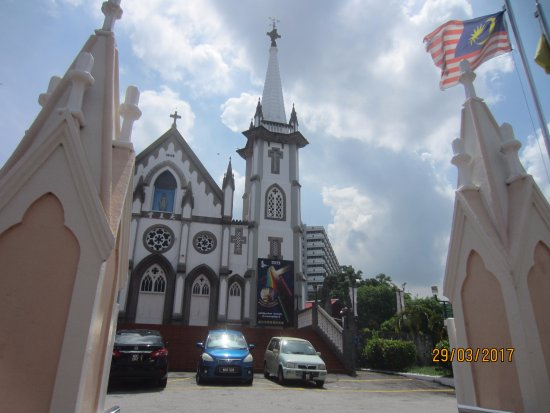Church: (65, 18, 312, 342)
